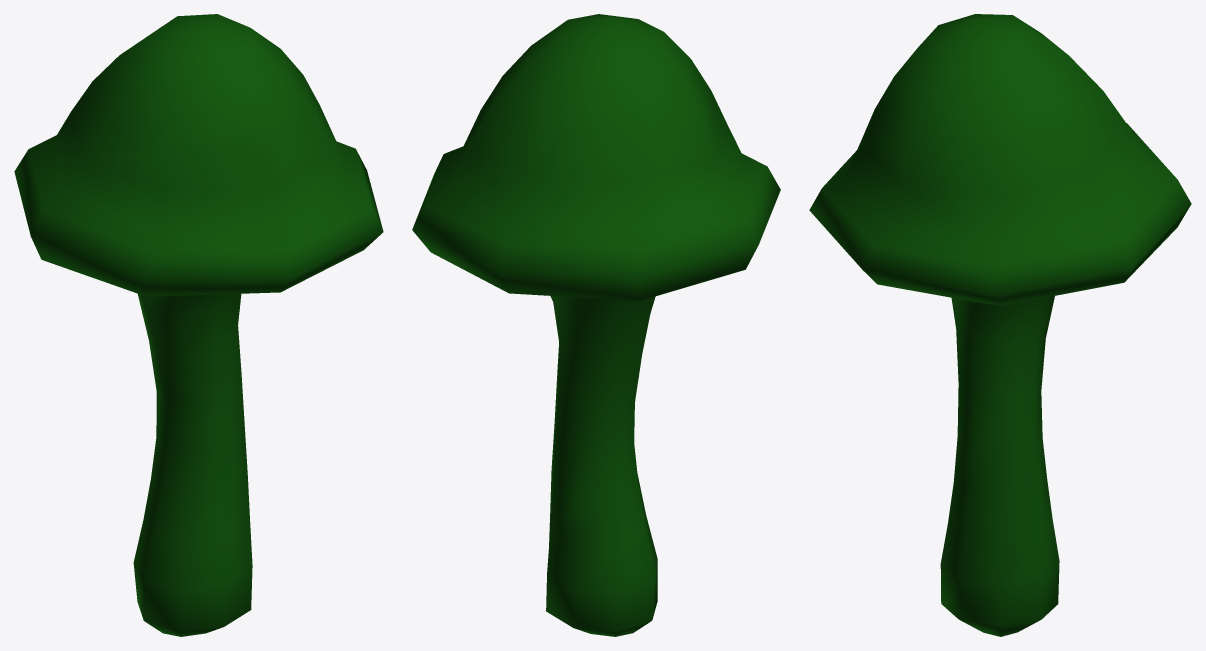
File: Mushroom_Thin.fbx
3 views of the same model, side by side, from view 1: azimuth 30°, elevation 25°; view 2: azimuth 150°, elevation 25°; view 3: azimuth 270°, elevation 25° (orthographic).
Visible parts, largest first — view 1: Mushroom_Thin; view 2: Mushroom_Thin; view 3: Mushroom_Thin.
Boxes of the visible parts, x1,y1,x2,y2 form: Mushroom_Thin: [14, 14, 383, 636]; Mushroom_Thin: [412, 14, 780, 636]; Mushroom_Thin: [809, 14, 1191, 636].
Bounding box in the file's own units: 11.06 × 19.51 × 11.08.
